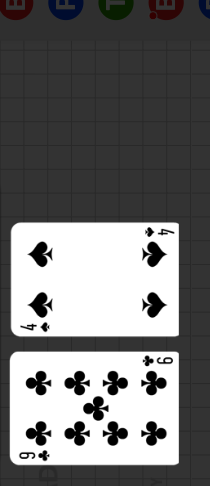4S: (143, 226, 176, 239)
9C: (140, 354, 175, 368)
